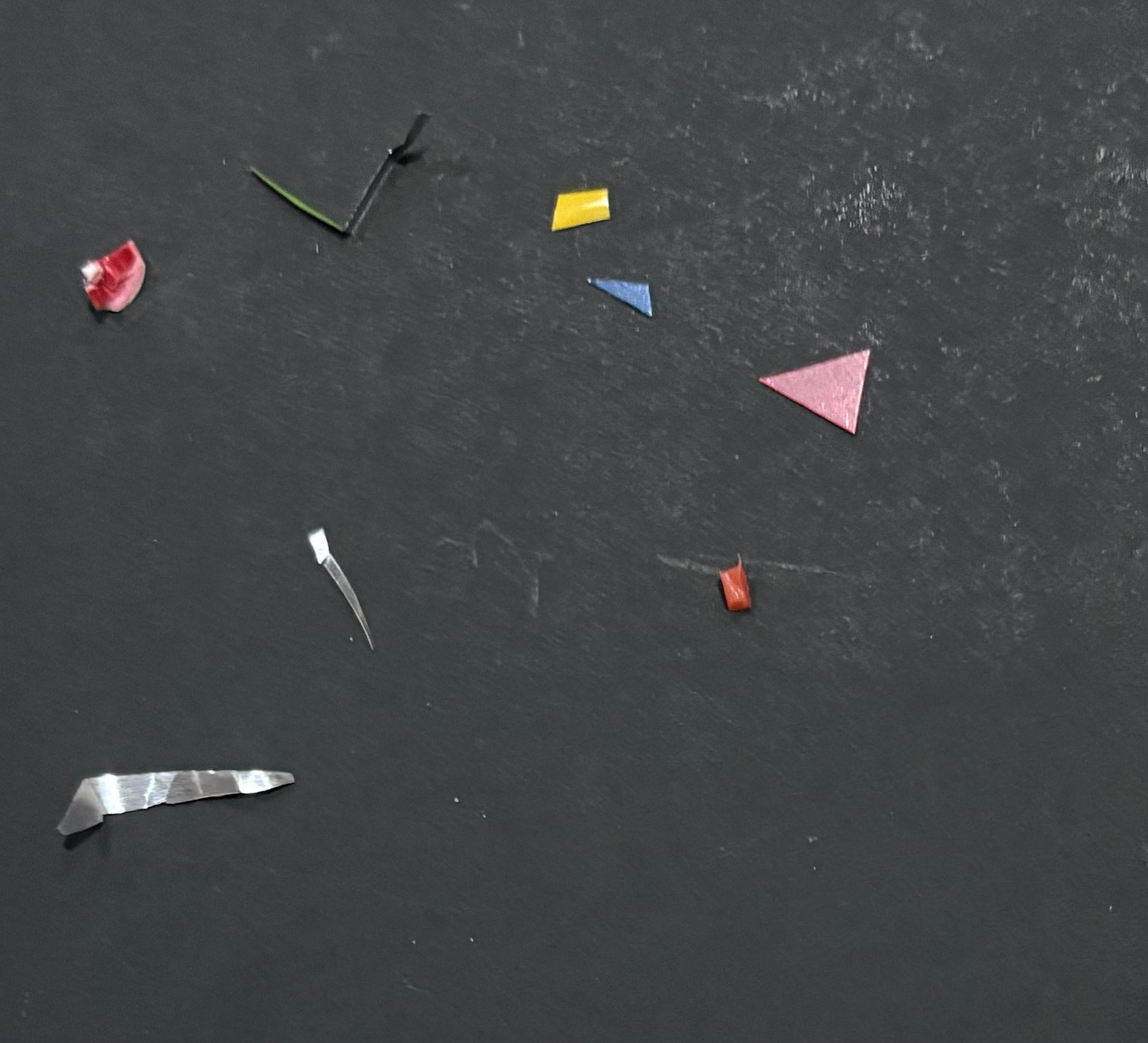Microplastic Particle: (56, 742, 295, 842), (250, 112, 430, 237), (759, 349, 870, 434), (308, 527, 374, 651), (81, 239, 146, 312), (551, 187, 610, 230), (587, 278, 652, 317), (719, 555, 752, 612)
